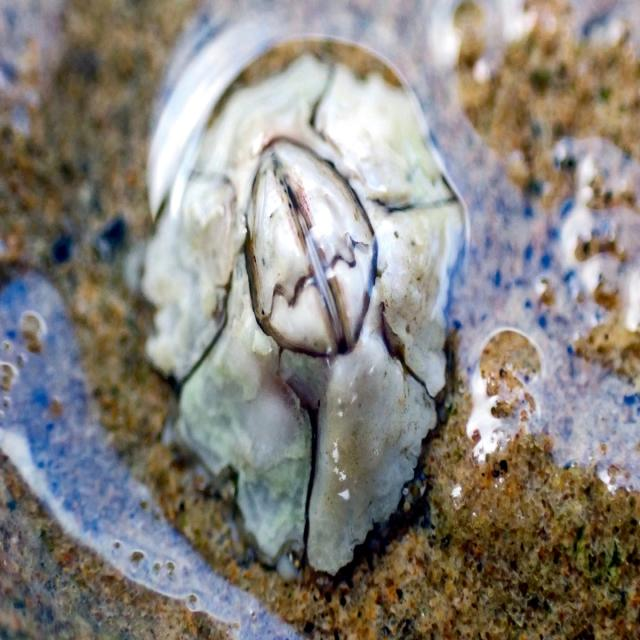barnacles: (130, 13, 465, 599)
